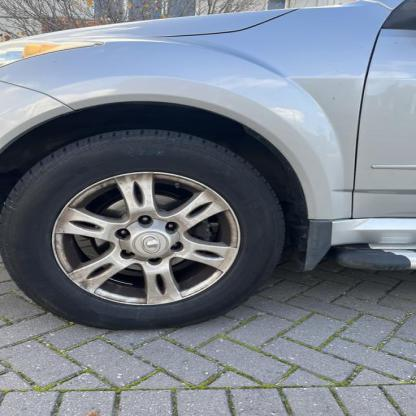Tire: (0, 126, 285, 334)
